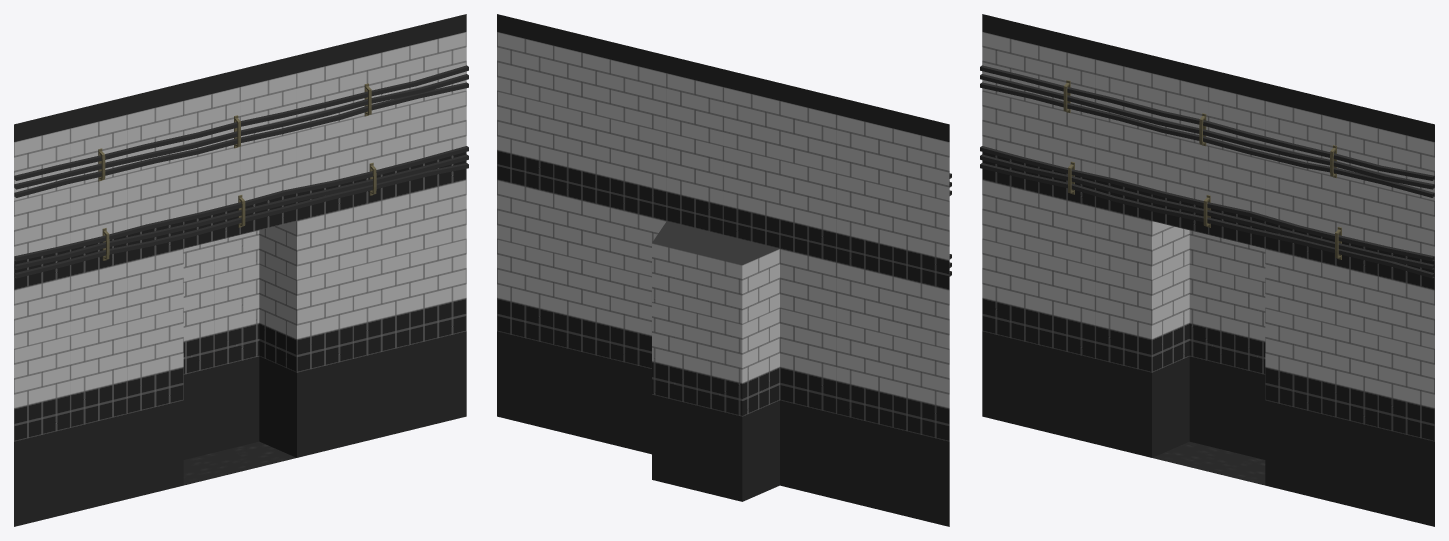
The model's file is SW_ENV_StationTunnel_Wall_A_02a_05m_FF.fbx.
3 renders of one model, left to right at view 1: azimuth 30°, elevation 25°; view 2: azimuth 150°, elevation 25°; view 3: azimuth 330°, elevation 25°, orthographic.
Visible parts, largest first — view 1: SW_ENV_StationTunnel_Wall_A_02a_05m_FF; view 2: SW_ENV_StationTunnel_Wall_A_02a_05m_FF; view 3: SW_ENV_StationTunnel_Wall_A_02a_05m_FF.
Part boxes in pixels (x1=…): SW_ENV_StationTunnel_Wall_A_02a_05m_FF: x1=14, y1=14, x2=468, y2=526; SW_ENV_StationTunnel_Wall_A_02a_05m_FF: x1=497, y1=14, x2=951, y2=526; SW_ENV_StationTunnel_Wall_A_02a_05m_FF: x1=980, y1=14, x2=1434, y2=526.
Size of the model in its own units: 500 by 425 by 57.06.
